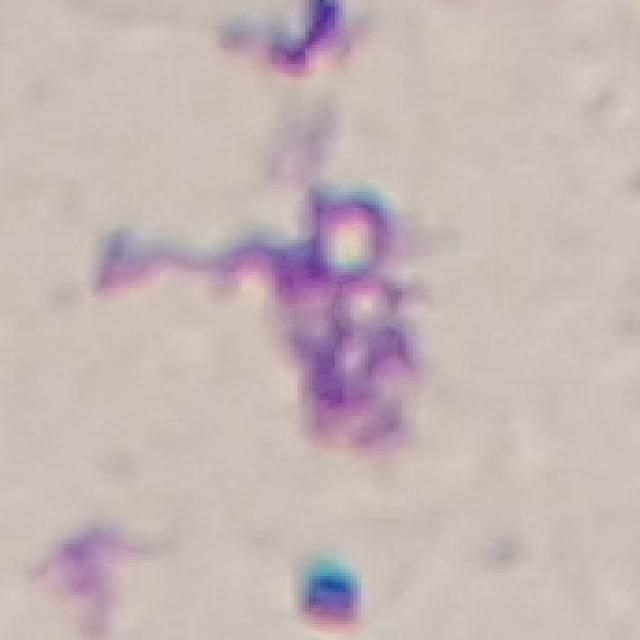non-sperm: (84, 187, 419, 448)
